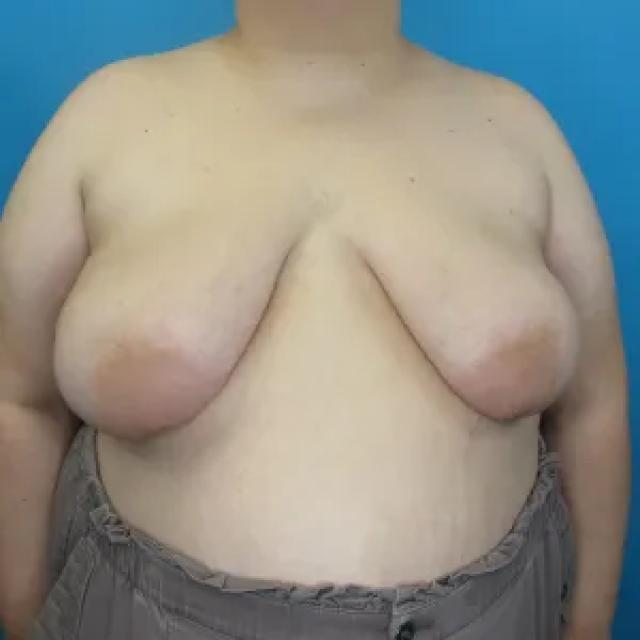Seno ileso: (46, 208, 312, 463), (338, 212, 590, 445)
